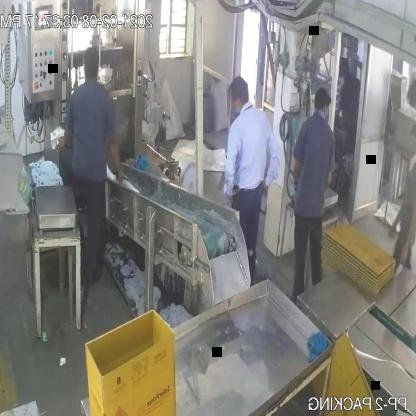no_glove: (218, 132, 238, 208), (260, 132, 279, 201), (107, 122, 126, 189)
